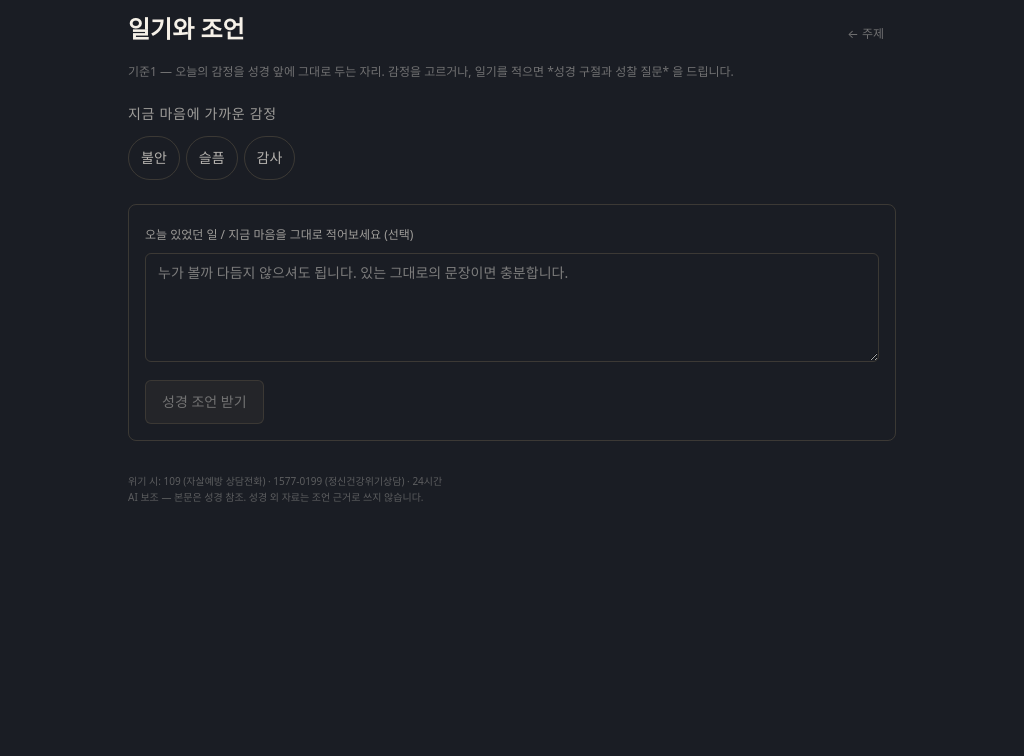
Test: /topics/journal — 조언 표시 › 인증 문구 · 성경 구절 · 성찰 질문 · 안전 footer 를 모두 보여준다
Type "불안했다" into the text box at (512, 308), box [145,253,879,362]
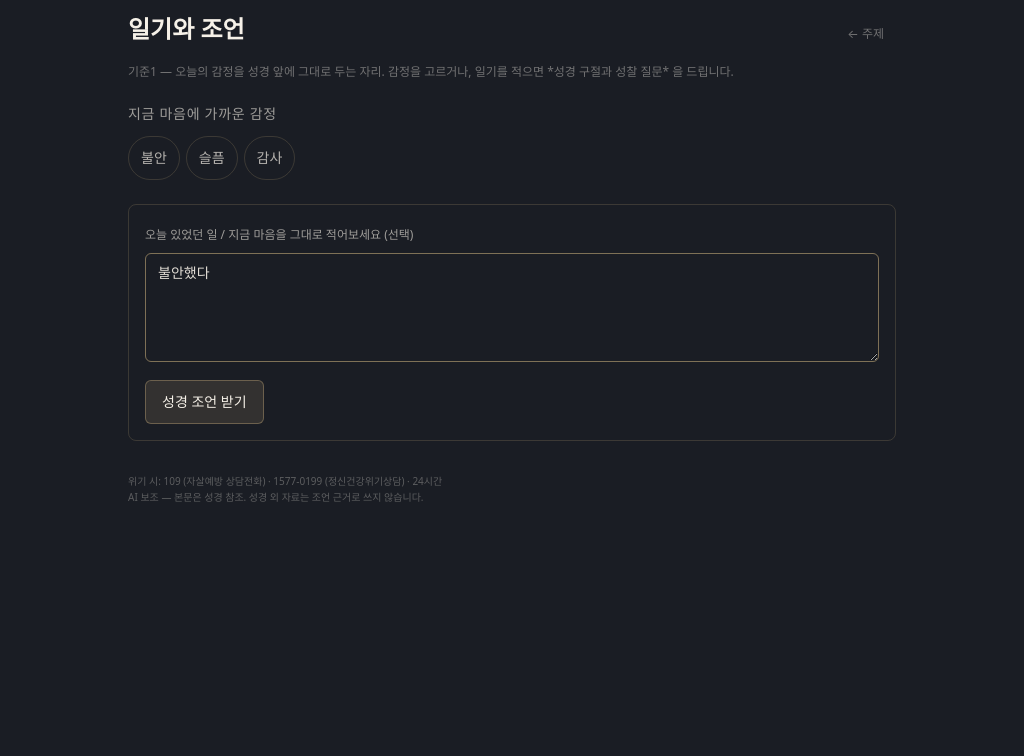
Click the button "성경 조언 받기" at (204, 402), box [145,380,264,424]
(page scrolled)
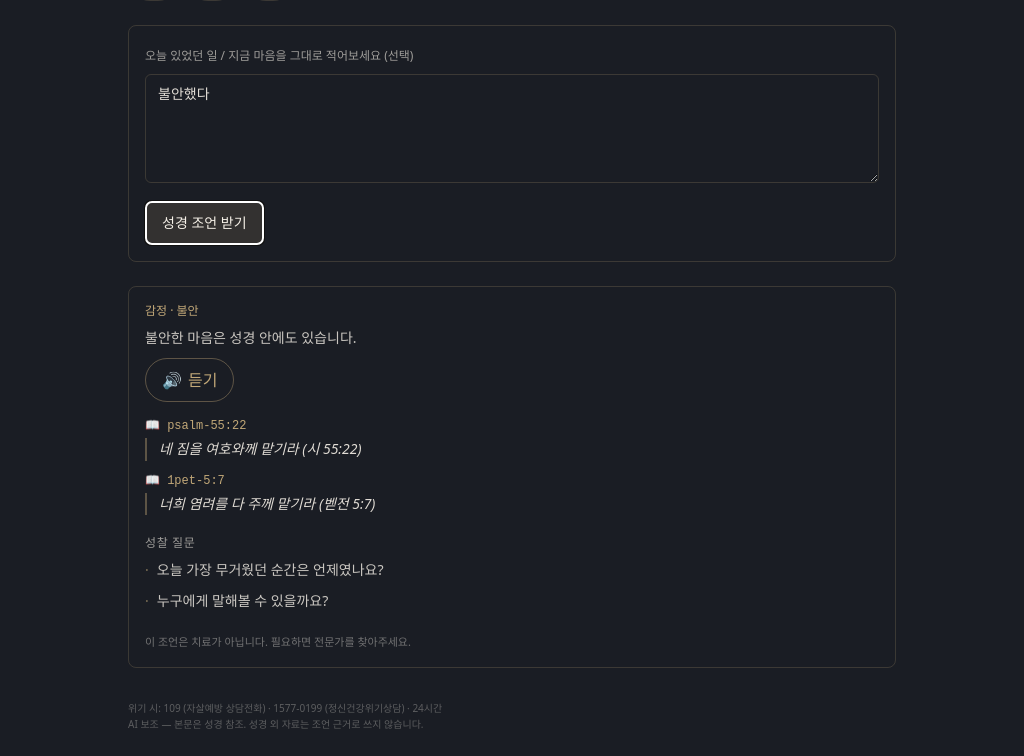
Expected: the text "불안한 마음은 성경 안에도 있습니다." is shown, [145,328,356,347]
Expected: the text "감정 · 불안" is shown, [145,302,199,319]
Expected: the text "📖 psalm-55:22" is shown, [145,419,246,433]
